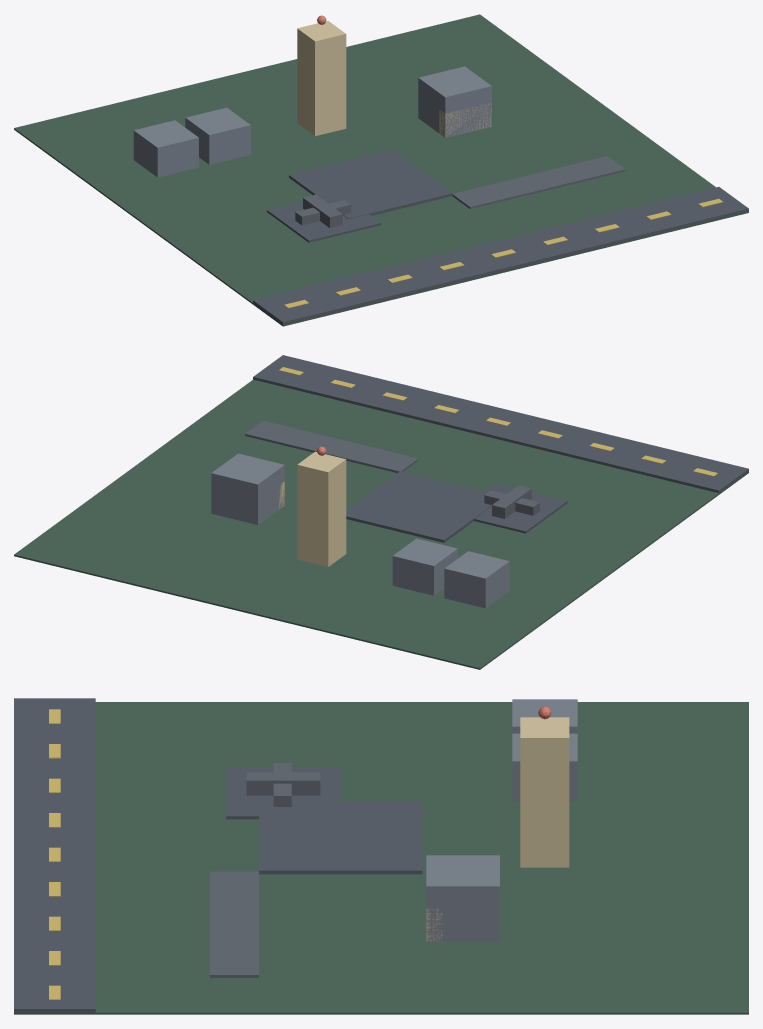
The model's file is stage_07.glb.
3 views of the same model, one above another, from view 1: azimuth 30°, elevation 25°; view 2: azimuth 150°, elevation 25°; view 3: azimuth 270°, elevation 25° (orthographic). The views are drawn at different scales.
Parts seen in each view (by area): view 1: geometry_0; view 2: geometry_0; view 3: geometry_0.
Boxes of the visible parts, box(x1,y1,x2,y2) form: geometry_0: box(14, 14, 748, 326); geometry_0: box(14, 355, 748, 669); geometry_0: box(14, 698, 748, 1014).
Bounding box in the file's own units: 9 × 2.06 × 9.
